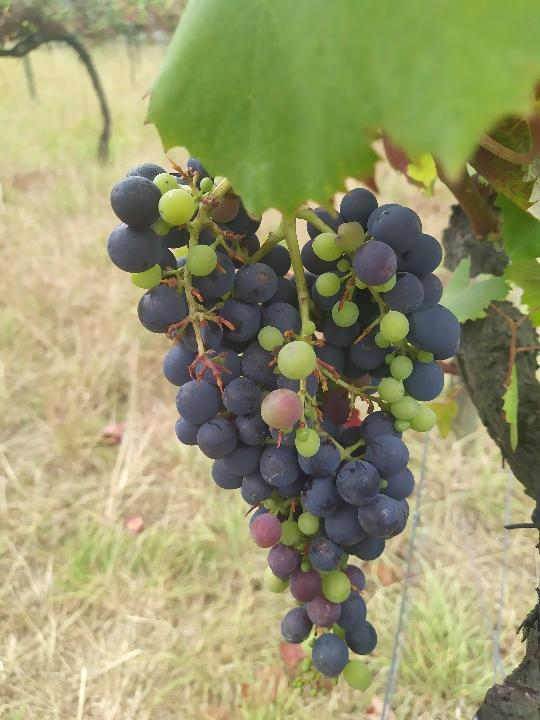grape: (104, 150, 465, 693)
